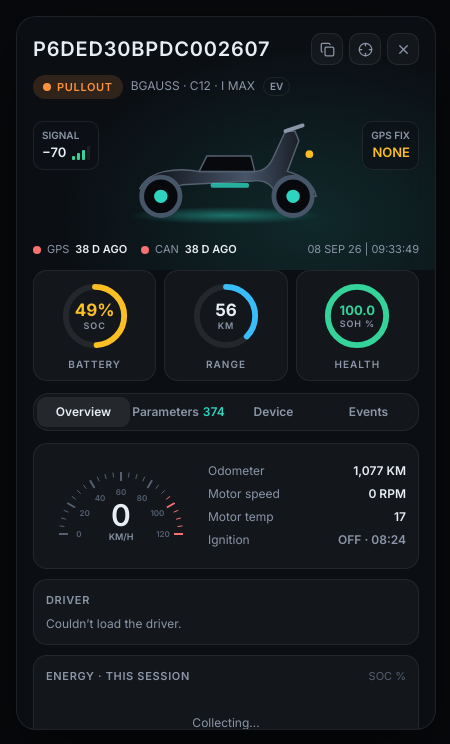
F07-T6: live updates re-render only changed parameter rows › one PID changed → only that row renders again
This screenshot has width=450, height=744.
What coordinates should you click on to do the following:
click the tab "Parameters374"
I would click on:
 (178, 412)
Its box is [132,397,225,427].
(page scrolled)
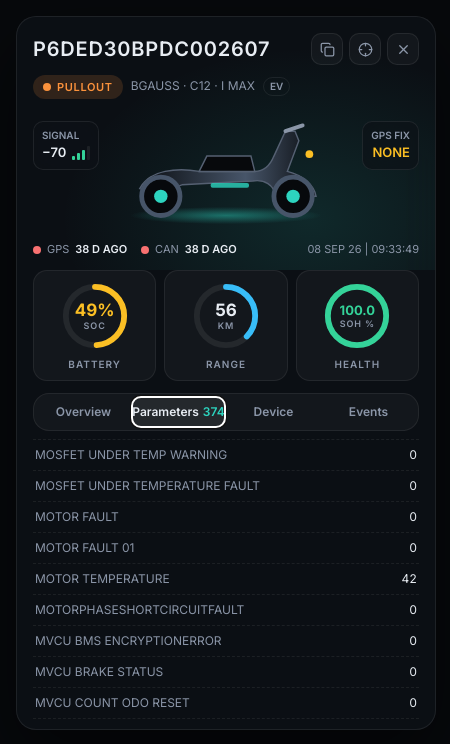
Check: the row "Motor Temperature 42" is shown, box [33,564,419,595]
